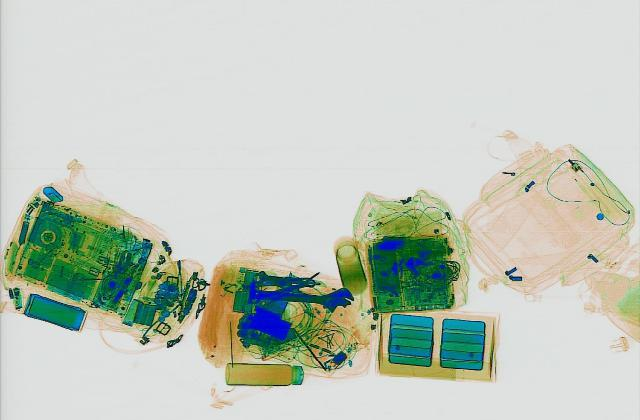Scissors: (70, 270, 104, 283)
Wrench: (250, 280, 354, 312), (250, 268, 314, 287)
